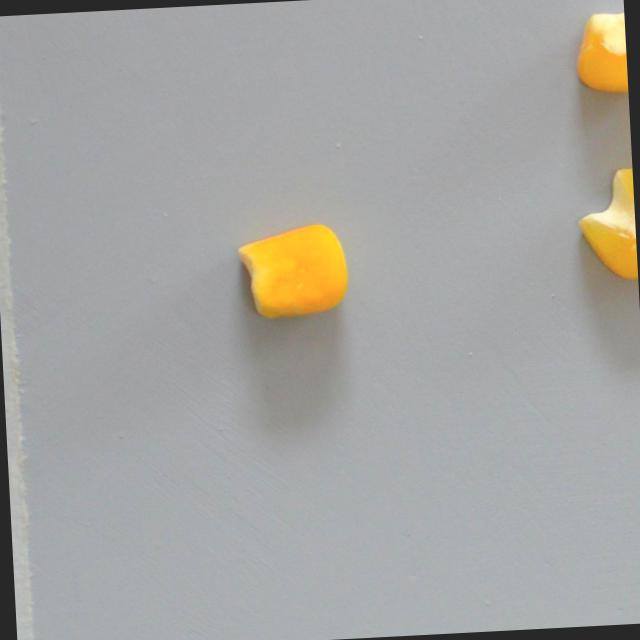no_canjicado: (235, 223, 349, 323), (573, 9, 629, 98)
pelicula: (572, 168, 638, 284)
